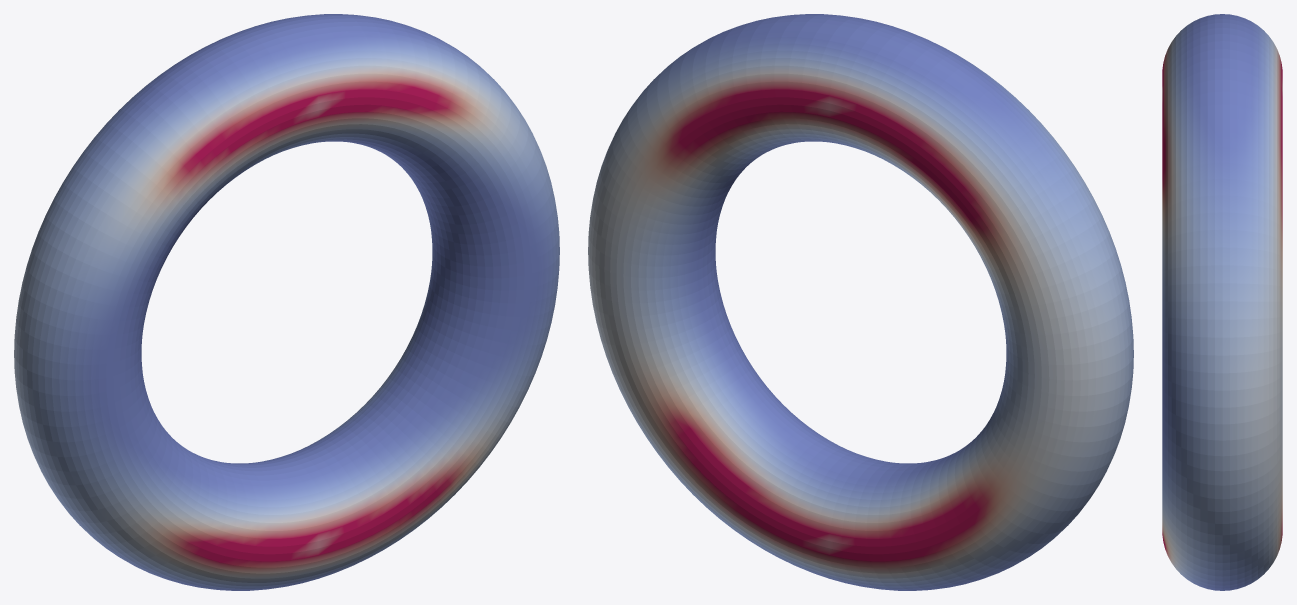
3 renders of one model, left to right at view 1: azimuth 30°, elevation 25°; view 2: azimuth 150°, elevation 25°; view 3: azimuth 270°, elevation 25°, orthographic. The views are drawn at different scales.
Visible parts, largest first — view 1: world; view 2: world; view 3: world.
Boxes of the visible parts, x1,y1,x2,y2 form: world: (14, 14, 559, 590); world: (588, 14, 1133, 590); world: (1162, 14, 1282, 590).
Bounding box in the file's own units: 21.07 × 21.07 × 4.39.
